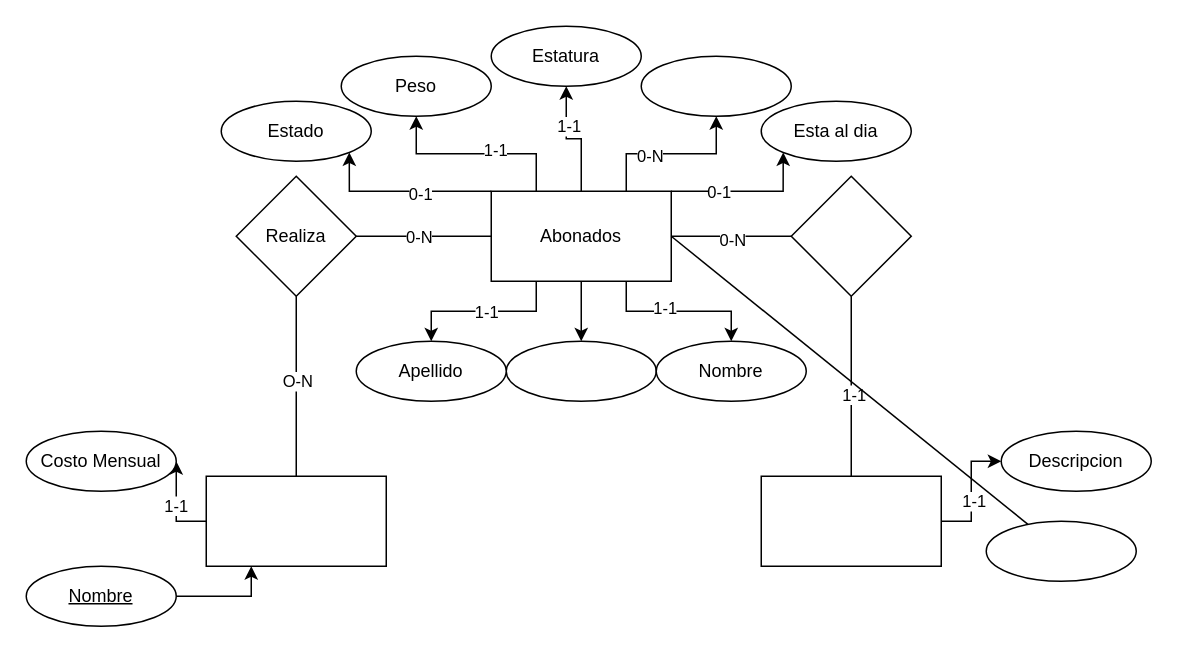
This 1178x653 diagram has some shape labels left out. The box of each missing label's shape, as (x1, y1, x2, y2) in pixels:
Antecedentes medicos: (760, 475, 941, 566)
Contacto: (640, 55, 791, 116)
Disiplinas: (205, 475, 386, 566)
DNI: (505, 340, 656, 401)
Identificardor externo: (985, 520, 1136, 581)
Tiene: (790, 175, 911, 296)
